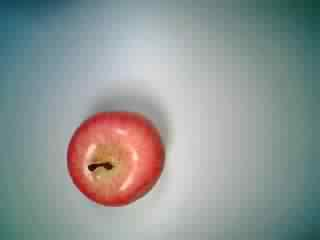apple: (65, 106, 171, 210)
